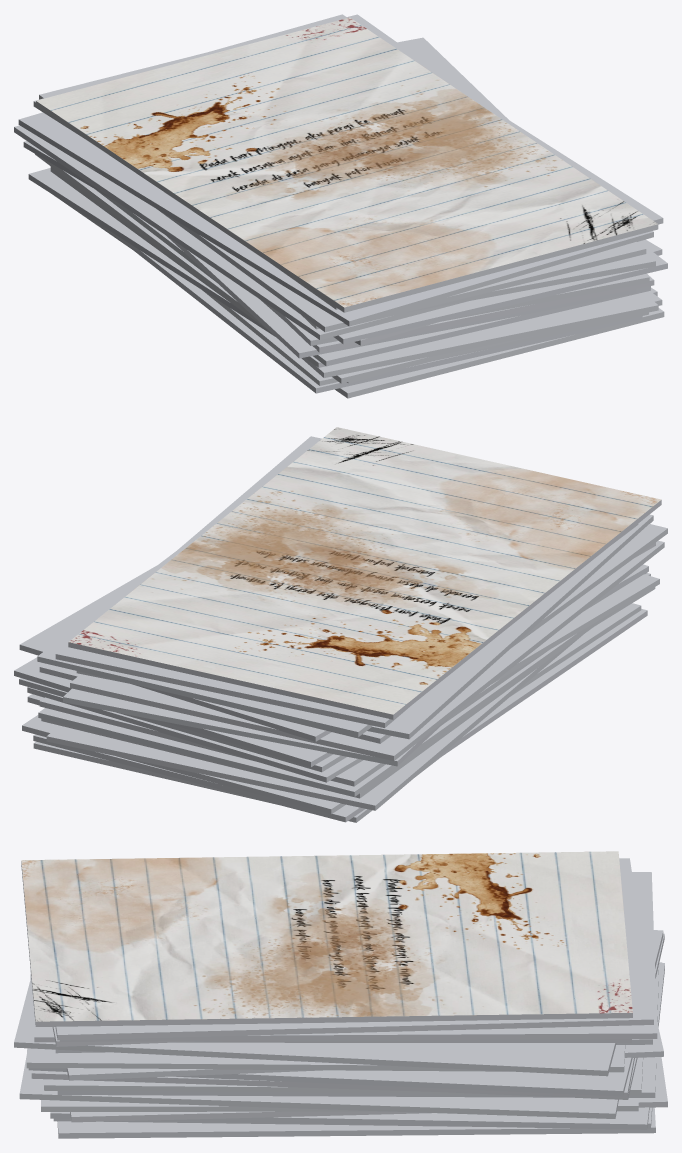
File: OBJEK8.fbx
3 renders of one model, top to bottom at view 1: azimuth 30°, elevation 25°; view 2: azimuth 150°, elevation 25°; view 3: azimuth 270°, elevation 25°, orthographic. The views are drawn at different scales.
Parts seen in each view (by area): view 1: Plane.017; view 2: Plane.017; view 3: Plane.017.
Boxes of the visible parts, x1=… form: Plane.017: x1=14, y1=14, x2=667, y2=398; Plane.017: x1=14, y1=427, x2=667, y2=822; Plane.017: x1=14, y1=851, x2=667, y2=1138.
Size of the model in its own units: 79.49 by 20.1 by 109.
Materials: 2 (1 with a texture image).
